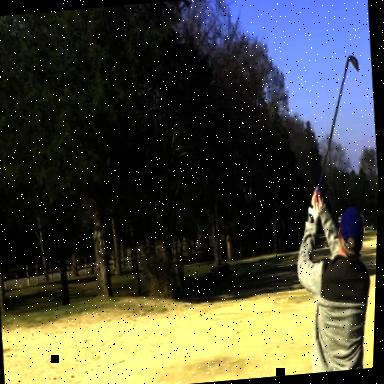ClubHead: (293, 179, 303, 192)
GolfBall: (345, 50, 362, 76)
